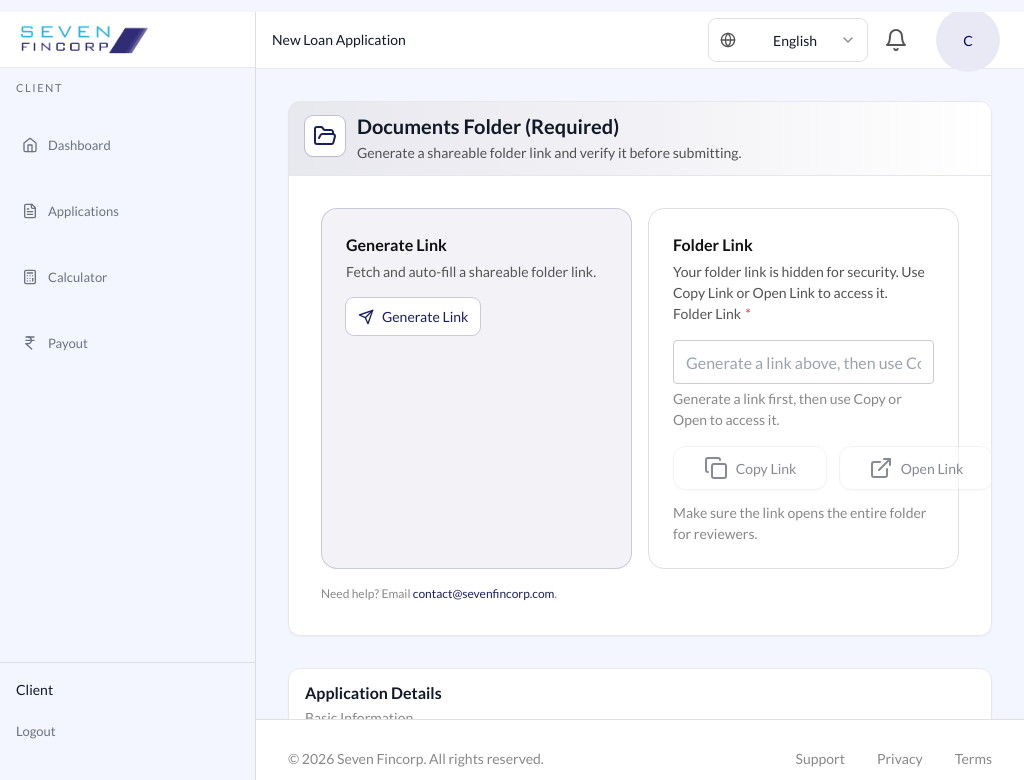
it: NewApplication Page - P0 Tests › Documents folder link generation › blocks final submit when link is generated but not copied or opened
What coordinates should you click on to do the following:
click the button with test id "generate-link-button"
I would click on:
 (396, 244)
Its box is [321, 208, 632, 569].
(page scrolled)
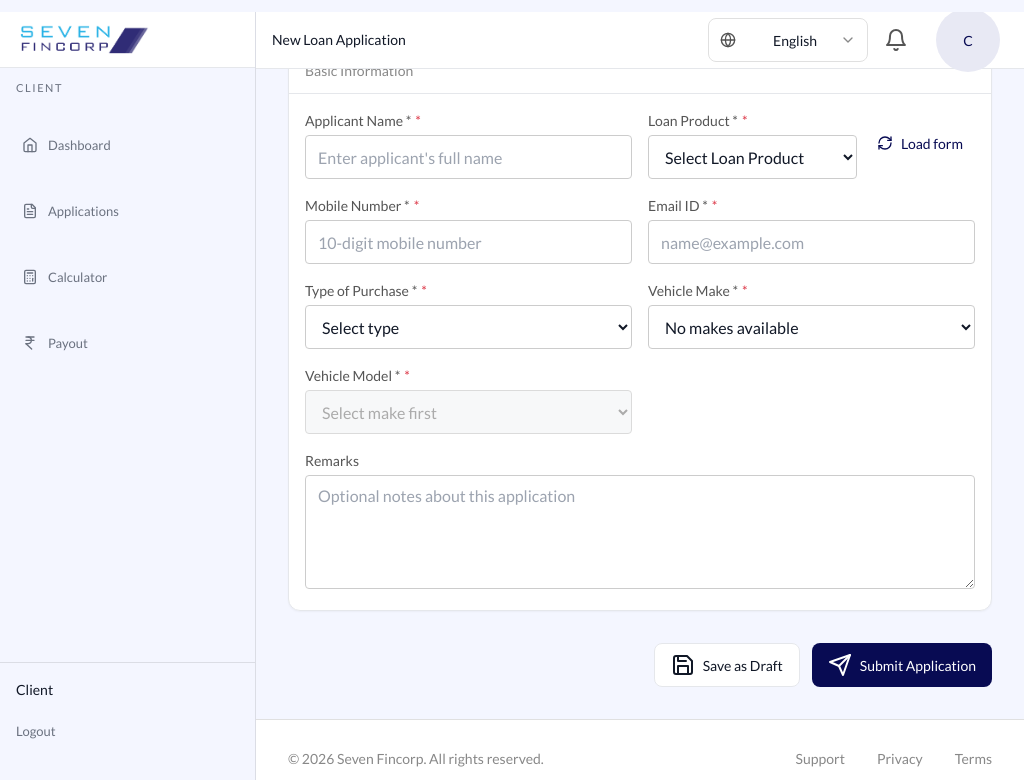
What coordinates should you click on to do the following:
click the button with test id "submit-application"
I would click on:
 (902, 665)
Its box is [812, 643, 992, 687].
(page scrolled)
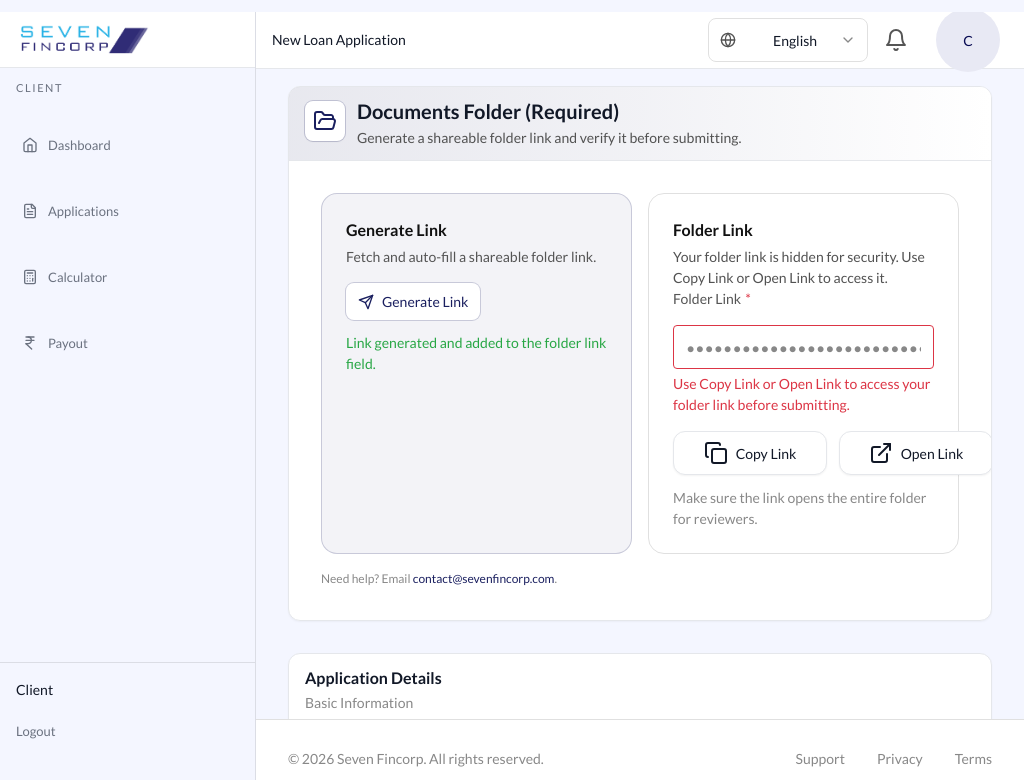
Expected: the text "Use Copy Link or Open Link to access your folder link before submitting" is shown, [673, 375, 930, 413]
